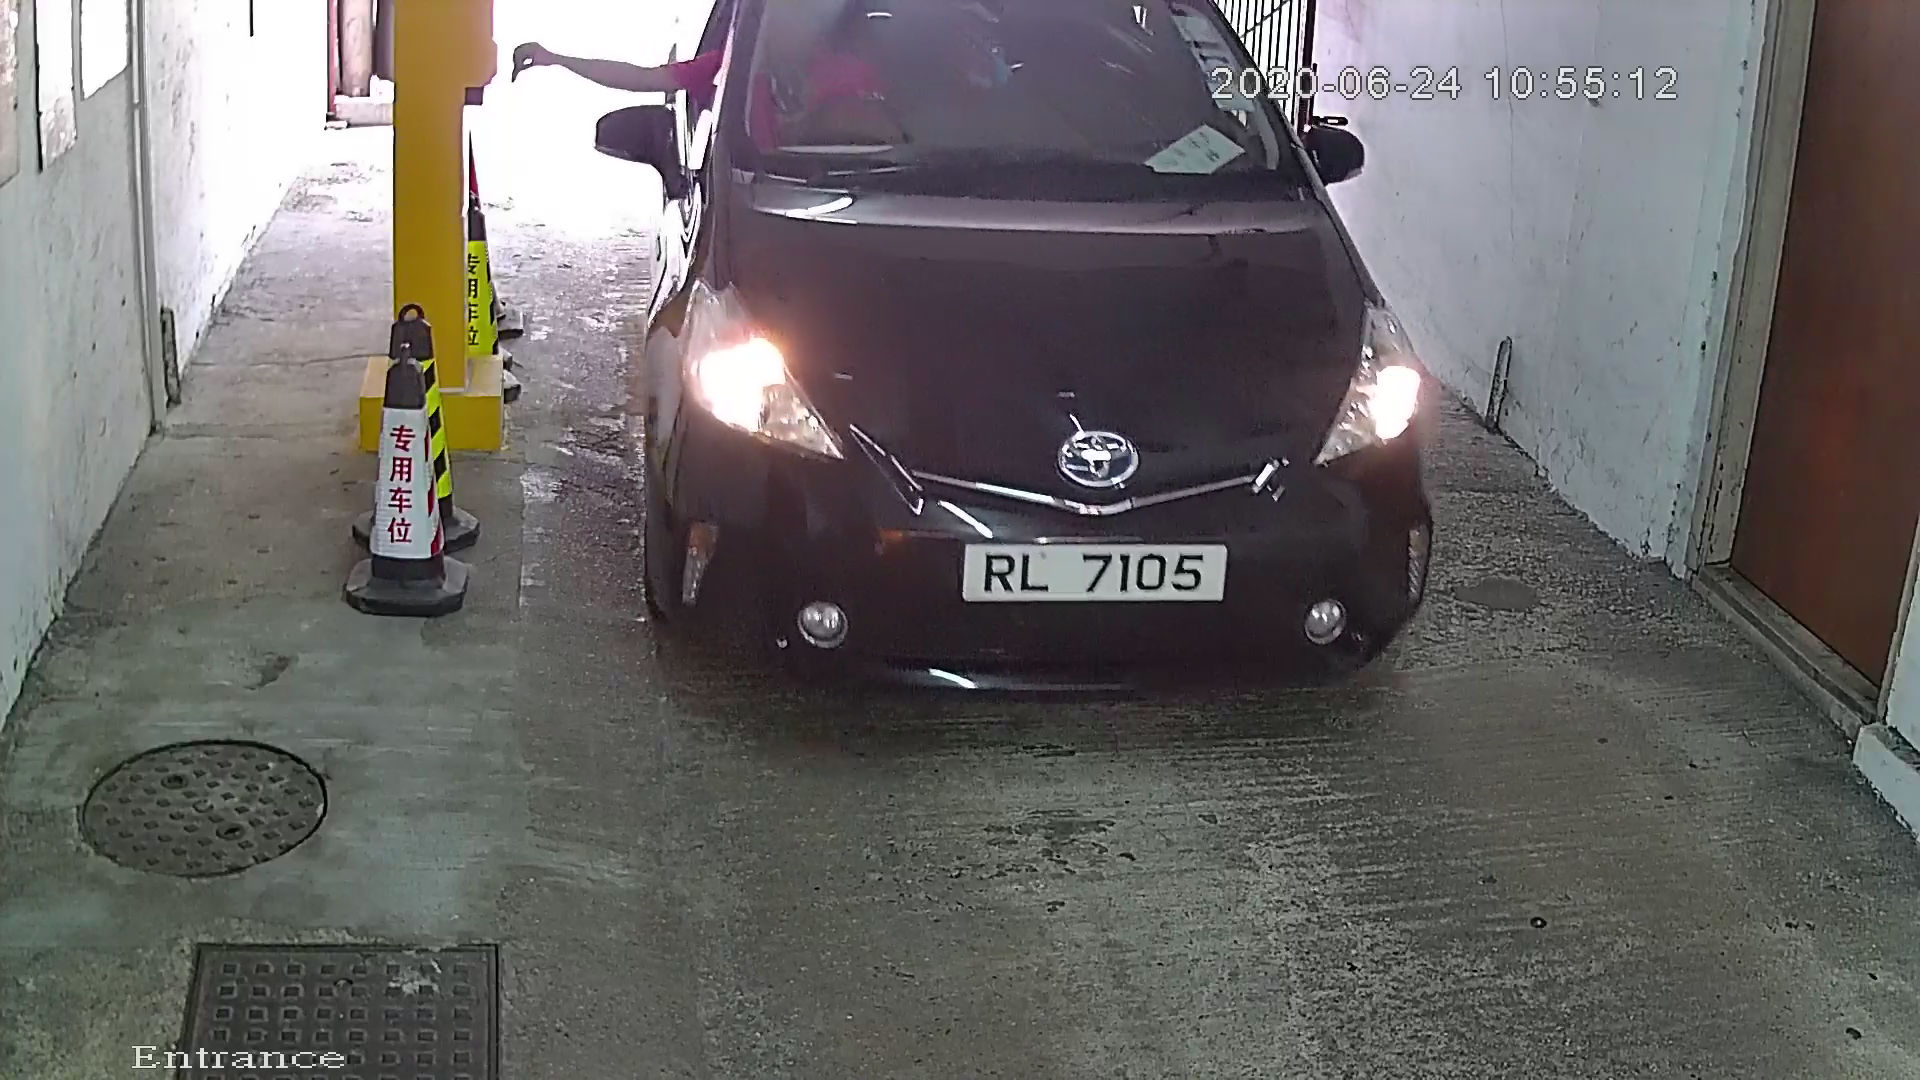Car: (600, 1, 1438, 800)
License Plate: (953, 533, 1239, 617)
